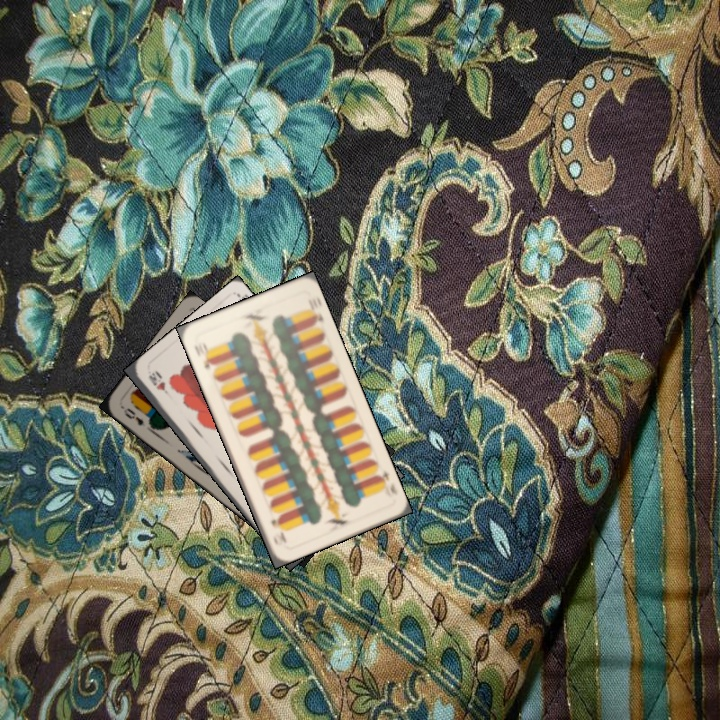E10: (371, 466, 400, 498), (193, 340, 216, 373)
EO: (117, 402, 154, 429)
H10: (144, 369, 175, 402)
